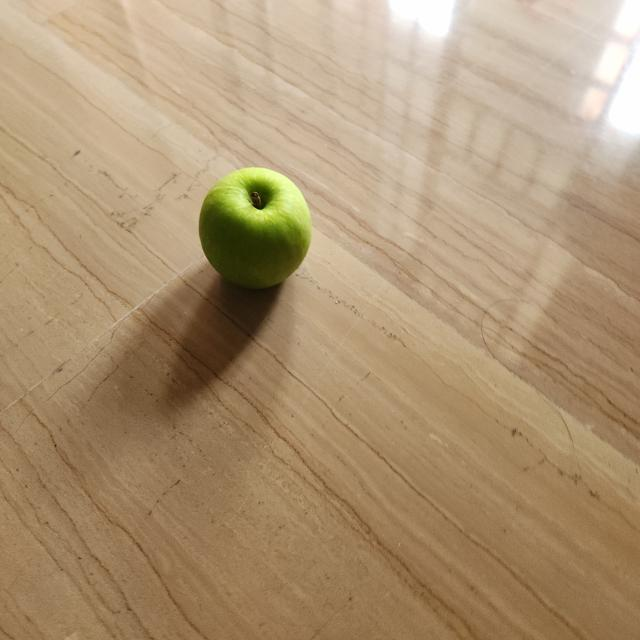apple: (194, 162, 314, 302)
